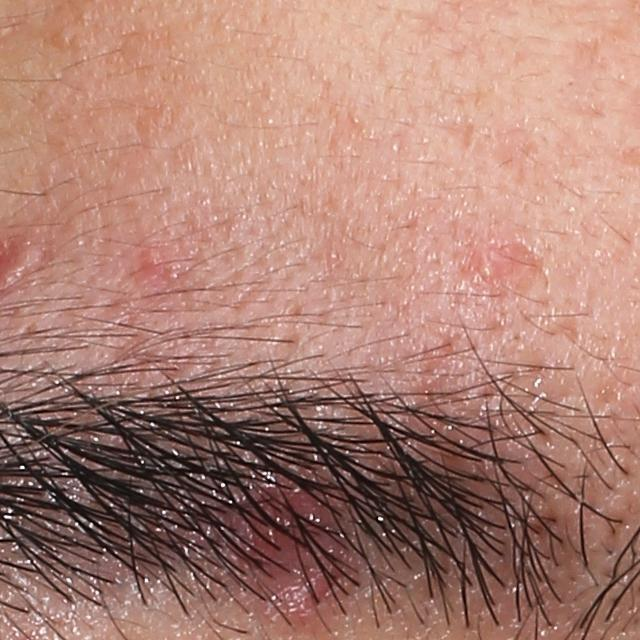atrophic_scar: (565, 38, 618, 83), (420, 117, 477, 156)
comedo: (54, 29, 72, 47)
